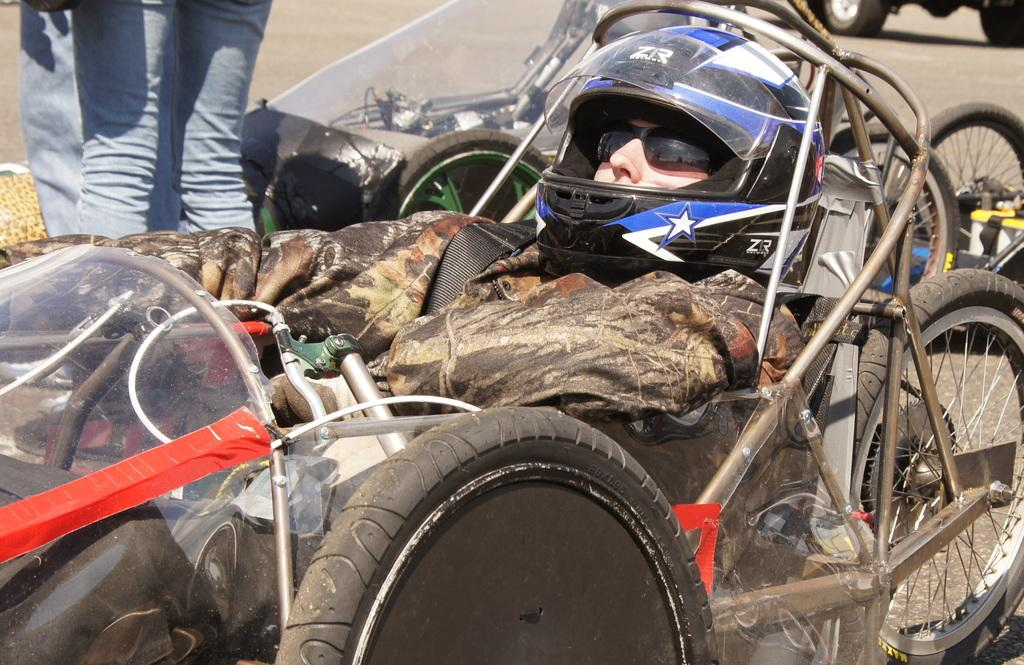helmet: (535, 25, 825, 291)
